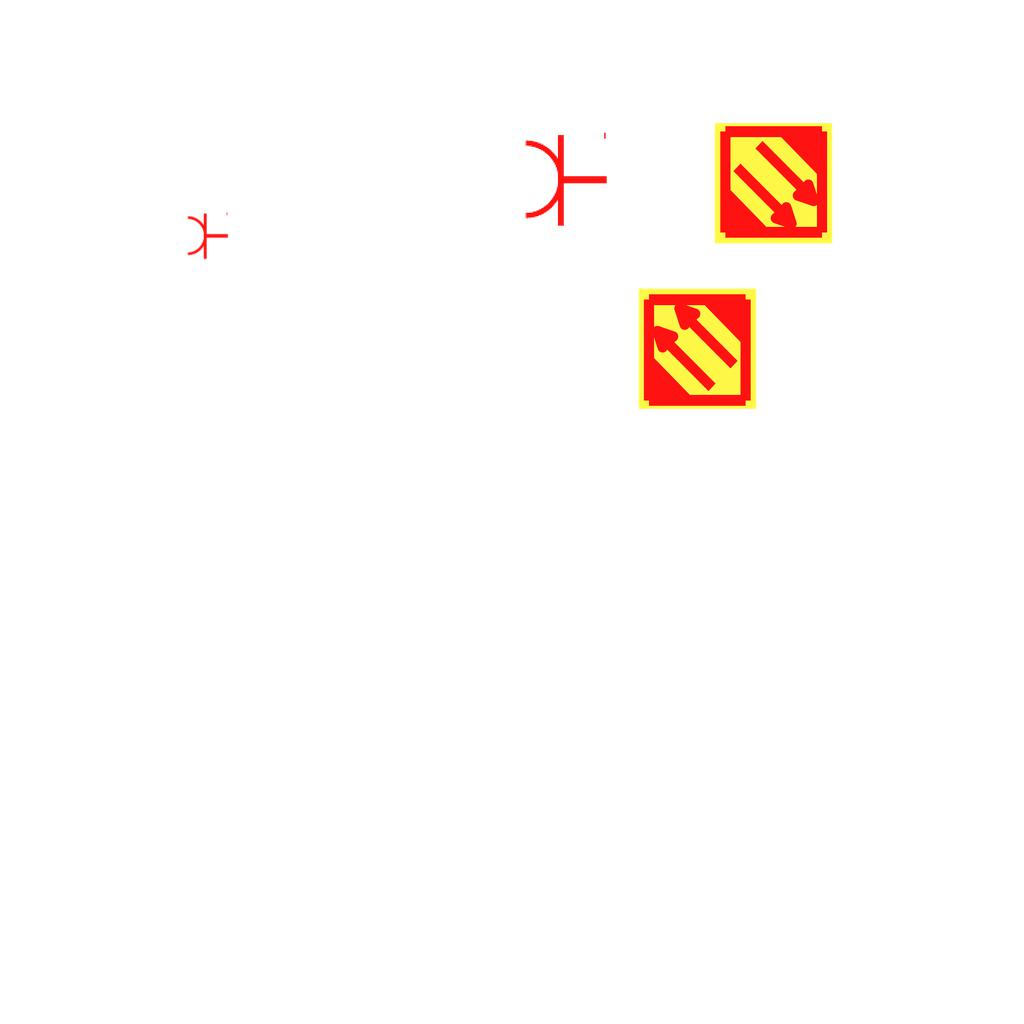ASR_Ansaugrauchmelder: (635, 286, 760, 411), (711, 121, 836, 246)
Schukosteckdose_einfach: (522, 128, 609, 228), (186, 210, 229, 260)
